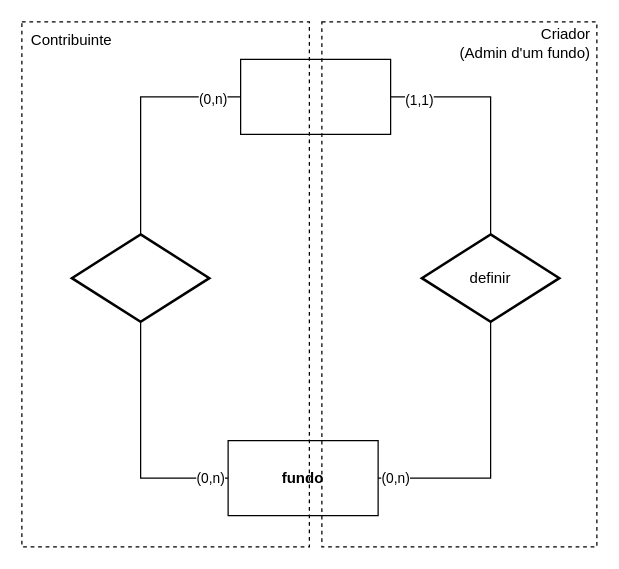
The diagram is 619 pixels wide and 569 high, and some of its shapes have lost their labels. Each missing label, with the box of its shape:
aplicar: (70, 232, 210, 322)
usuario: (239, 58, 391, 134)
